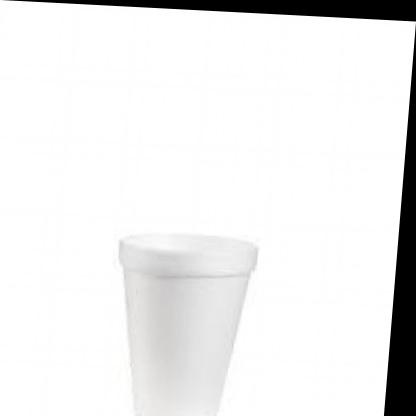trash: (119, 234, 256, 415)
